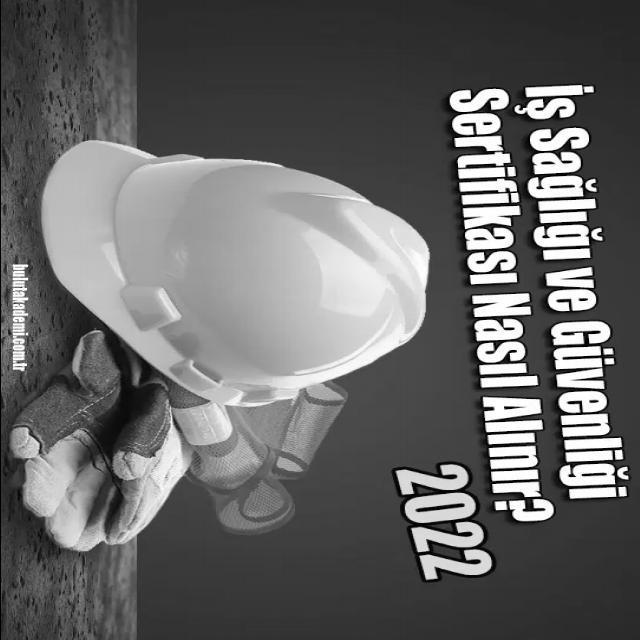safety_helmet: (38, 139, 427, 406)
